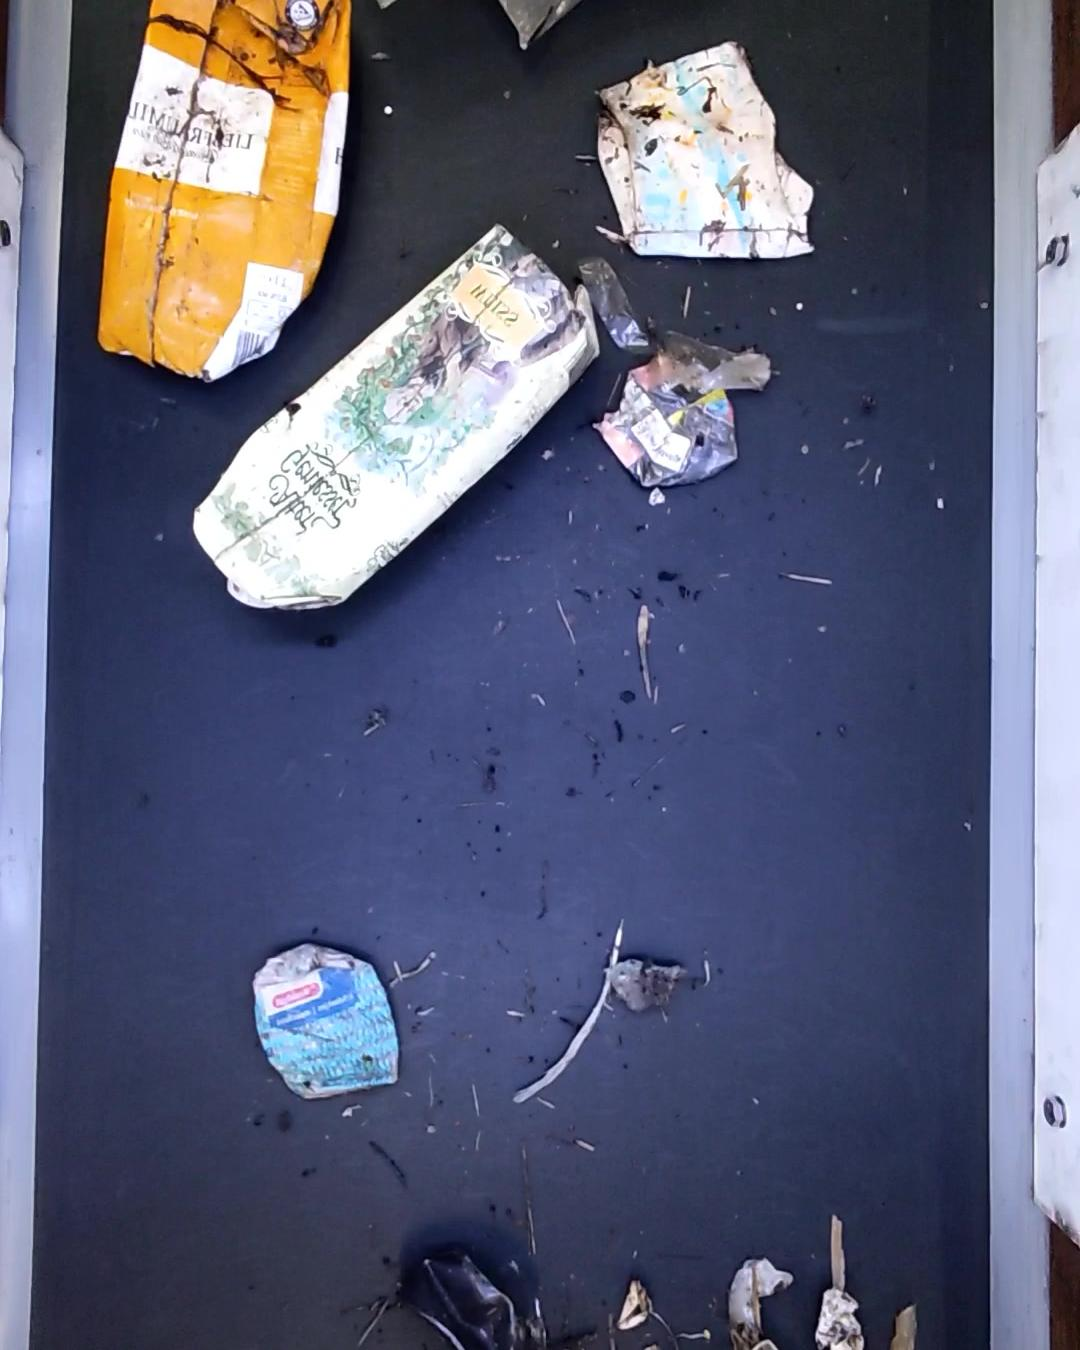Plastic folies of stukken daarvan 2.5- 50 cm: (574, 249, 771, 391), (611, 944, 683, 1014)
